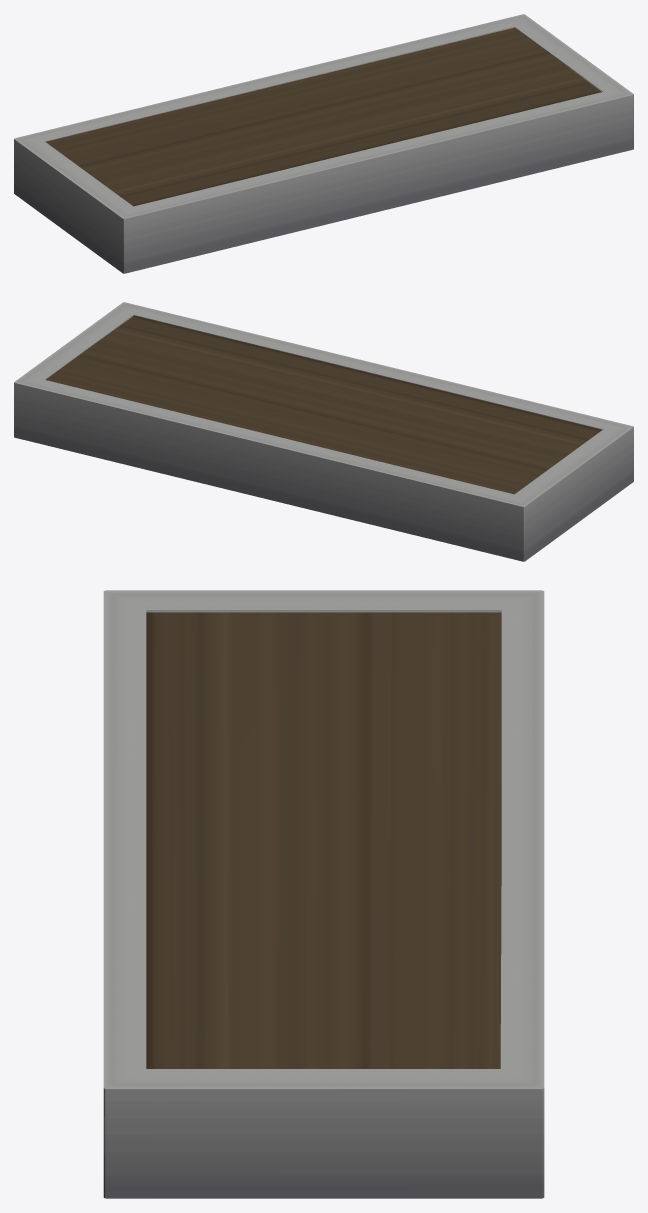
The model's file is objects_un_t06flowerbed02.gltf.
The picture shows the model from 3 angles, top to bottom: view 1: azimuth 30°, elevation 25°; view 2: azimuth 150°, elevation 25°; view 3: azimuth 270°, elevation 25°; orthographic projection. The views are drawn at different scales.
Parts seen in each view (by area): view 1: um_objects_un_t06flowerbed02_model_lod0Shape:objects_un_t06f, um_objects_un_t06flowerbed02_model_lod2Shape:objects_un_t06f, um_objects_un_t06flowerbed02_model_lod1Shape:objects_un_t06f; view 2: um_objects_un_t06flowerbed02_model_lod0Shape:objects_un_t06f, um_objects_un_t06flowerbed02_model_lod2Shape:objects_un_t06f, um_objects_un_t06flowerbed02_model_lod1Shape:objects_un_t06f; view 3: um_objects_un_t06flowerbed02_model_lod2Shape:objects_un_t06f (×2), um_objects_un_t06flowerbed02_model_lod0Shape:objects_un_t06f, um_objects_un_t06flowerbed02_model_lod1Shape:objects_un_t06f.
Boxes of the visible parts, <box> form: um_objects_un_t06flowerbed02_model_lod0Shape:objects_un_t06f: <box>14,14,633,273</box>; um_objects_un_t06flowerbed02_model_lod2Shape:objects_un_t06f: <box>46,27,601,206</box>; um_objects_un_t06flowerbed02_model_lod1Shape:objects_un_t06f: <box>15,14,633,218</box>; um_objects_un_t06flowerbed02_model_lod0Shape:objects_un_t06f: <box>14,302,633,561</box>; um_objects_un_t06flowerbed02_model_lod2Shape:objects_un_t06f: <box>46,315,601,494</box>; um_objects_un_t06flowerbed02_model_lod1Shape:objects_un_t06f: <box>14,303,632,506</box>; um_objects_un_t06flowerbed02_model_lod2Shape:objects_un_t06f (×2): <box>146,611,501,1068</box>; um_objects_un_t06flowerbed02_model_lod0Shape:objects_un_t06f: <box>103,590,544,1198</box>; um_objects_un_t06flowerbed02_model_lod1Shape:objects_un_t06f: <box>104,591,543,1088</box>.
Size of what is drawn, in the model's own units: 8 by 0.8202 by 2.99.
Materials: 2 (2 with a texture image).
